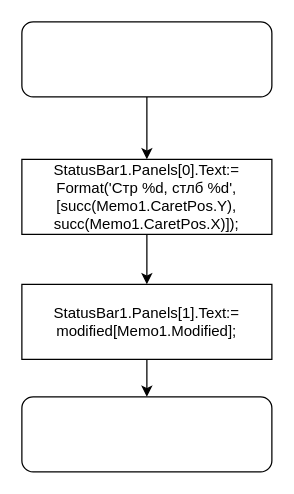
Image size: 294x494. Some labels were removed from this diagram. Each missing label, with the centre of its shape:
"TForm1.ApplicationProperties1Idle НАЧАЛО" belongs at [146,59].
"КОНЕЦ TForm1.ApplicationProperties1Idle" belongs at [146,434].
